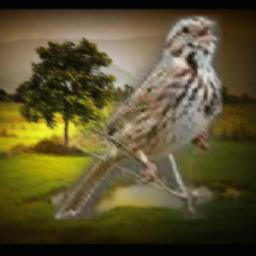Sparrow: (54, 16, 222, 220)
